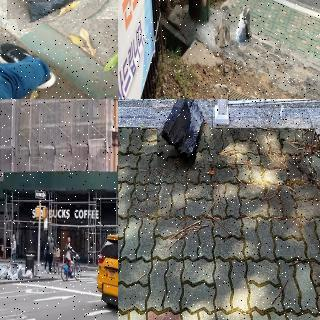Garbage: (152, 99, 213, 171), (2, 0, 118, 24), (228, 7, 252, 47), (8, 263, 18, 280), (0, 265, 10, 279), (16, 264, 24, 278), (24, 269, 34, 279)
